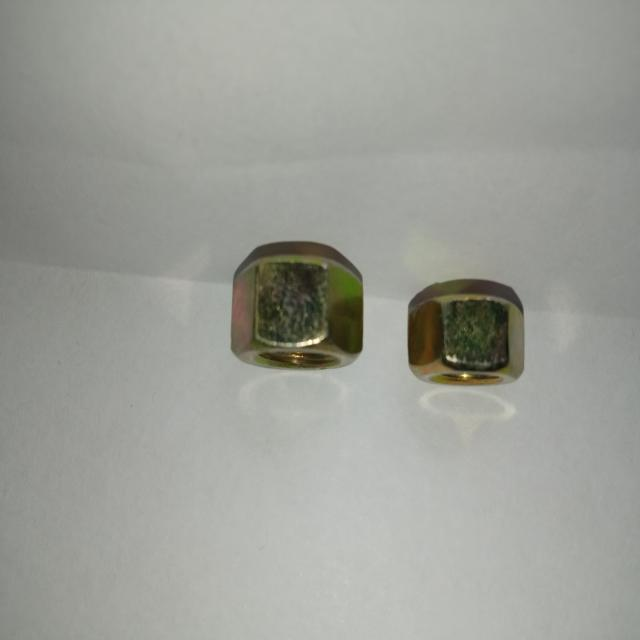m10: (226, 250, 369, 377)
m8: (408, 287, 526, 392)
